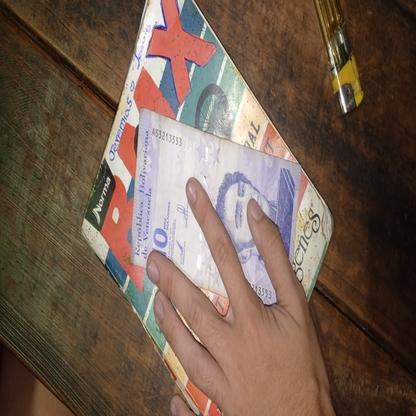ten-front-vef: (130, 108, 300, 310)
